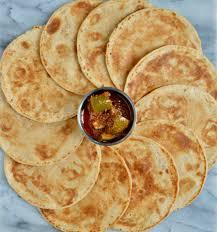bhakri: (2, 5, 217, 232)
